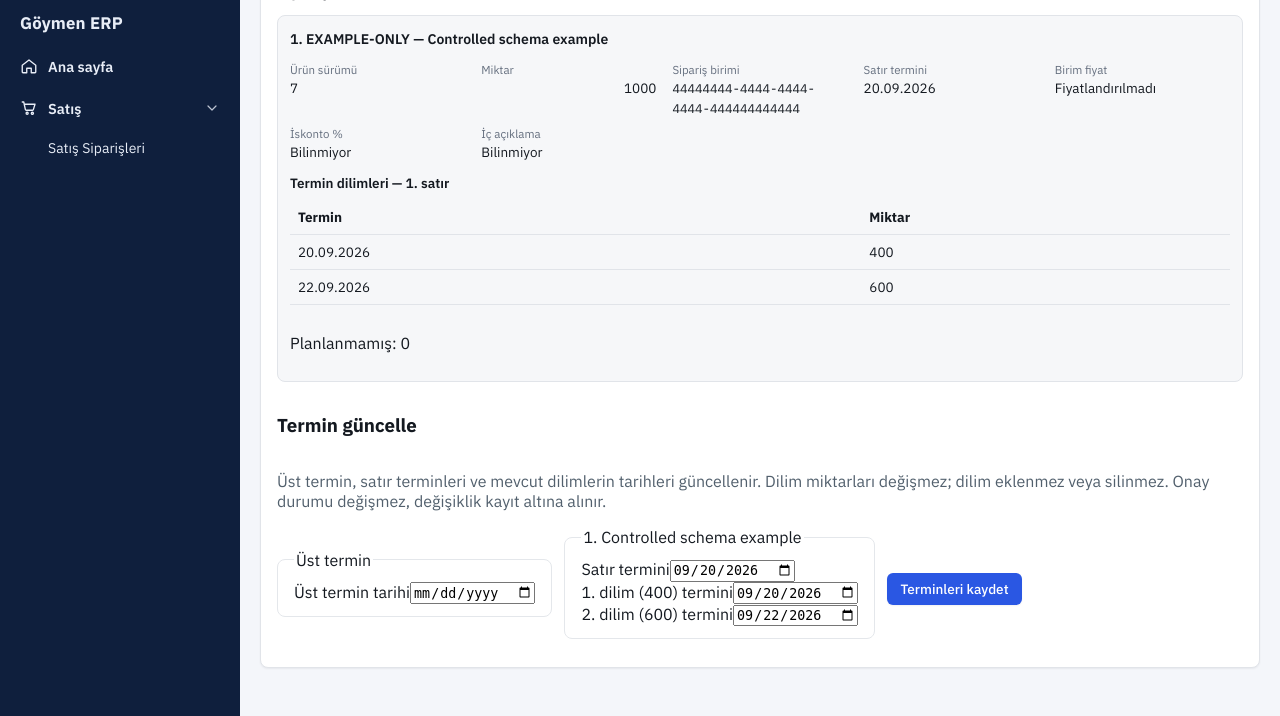
Test: S-04 delivery-schedule update (DEC-SAL-003) › a refused grant is told as such and nothing is recorded on the screen
The image size is (1280, 716).
(page scrolled)
expect the element with test id "sales-delivery-schedule-form" is shown: met, box [277,394,1243,651]
Type "2026-10-10" into the date field labelled "Üst termin tarihi" at (473, 593), box [410,582,535,604]
(page scrolled)
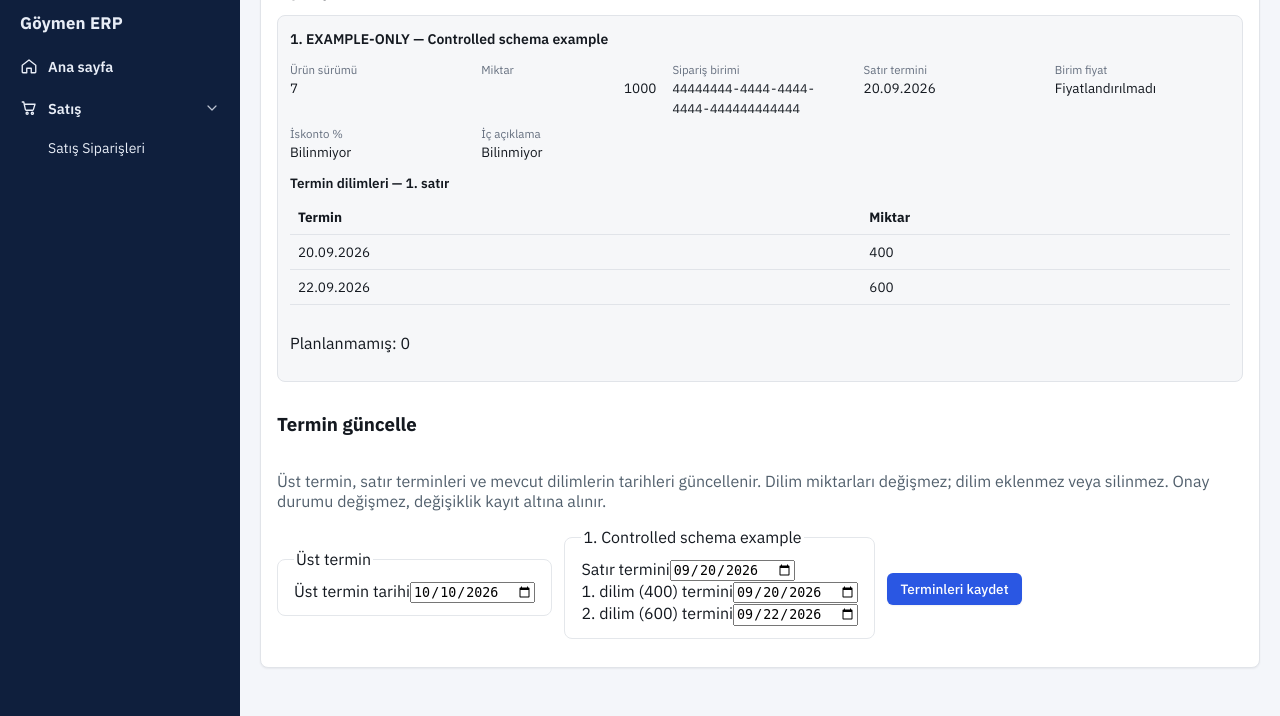
Click the button "Terminleri kaydet" at (954, 589), box [887,573,1022,605]
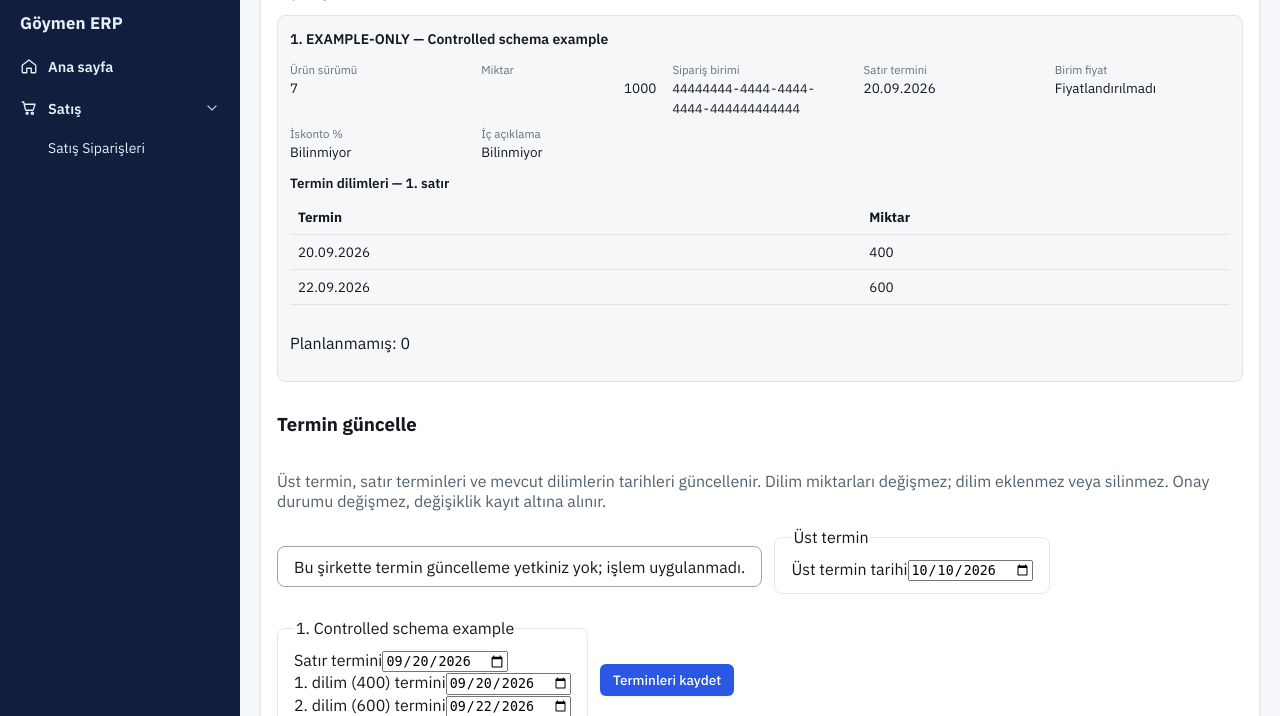
expect the text "Bu şirkette termin güncelleme yetkiniz yok; işlem uygulanmadı." is shown: met, box [277,546,762,587]
